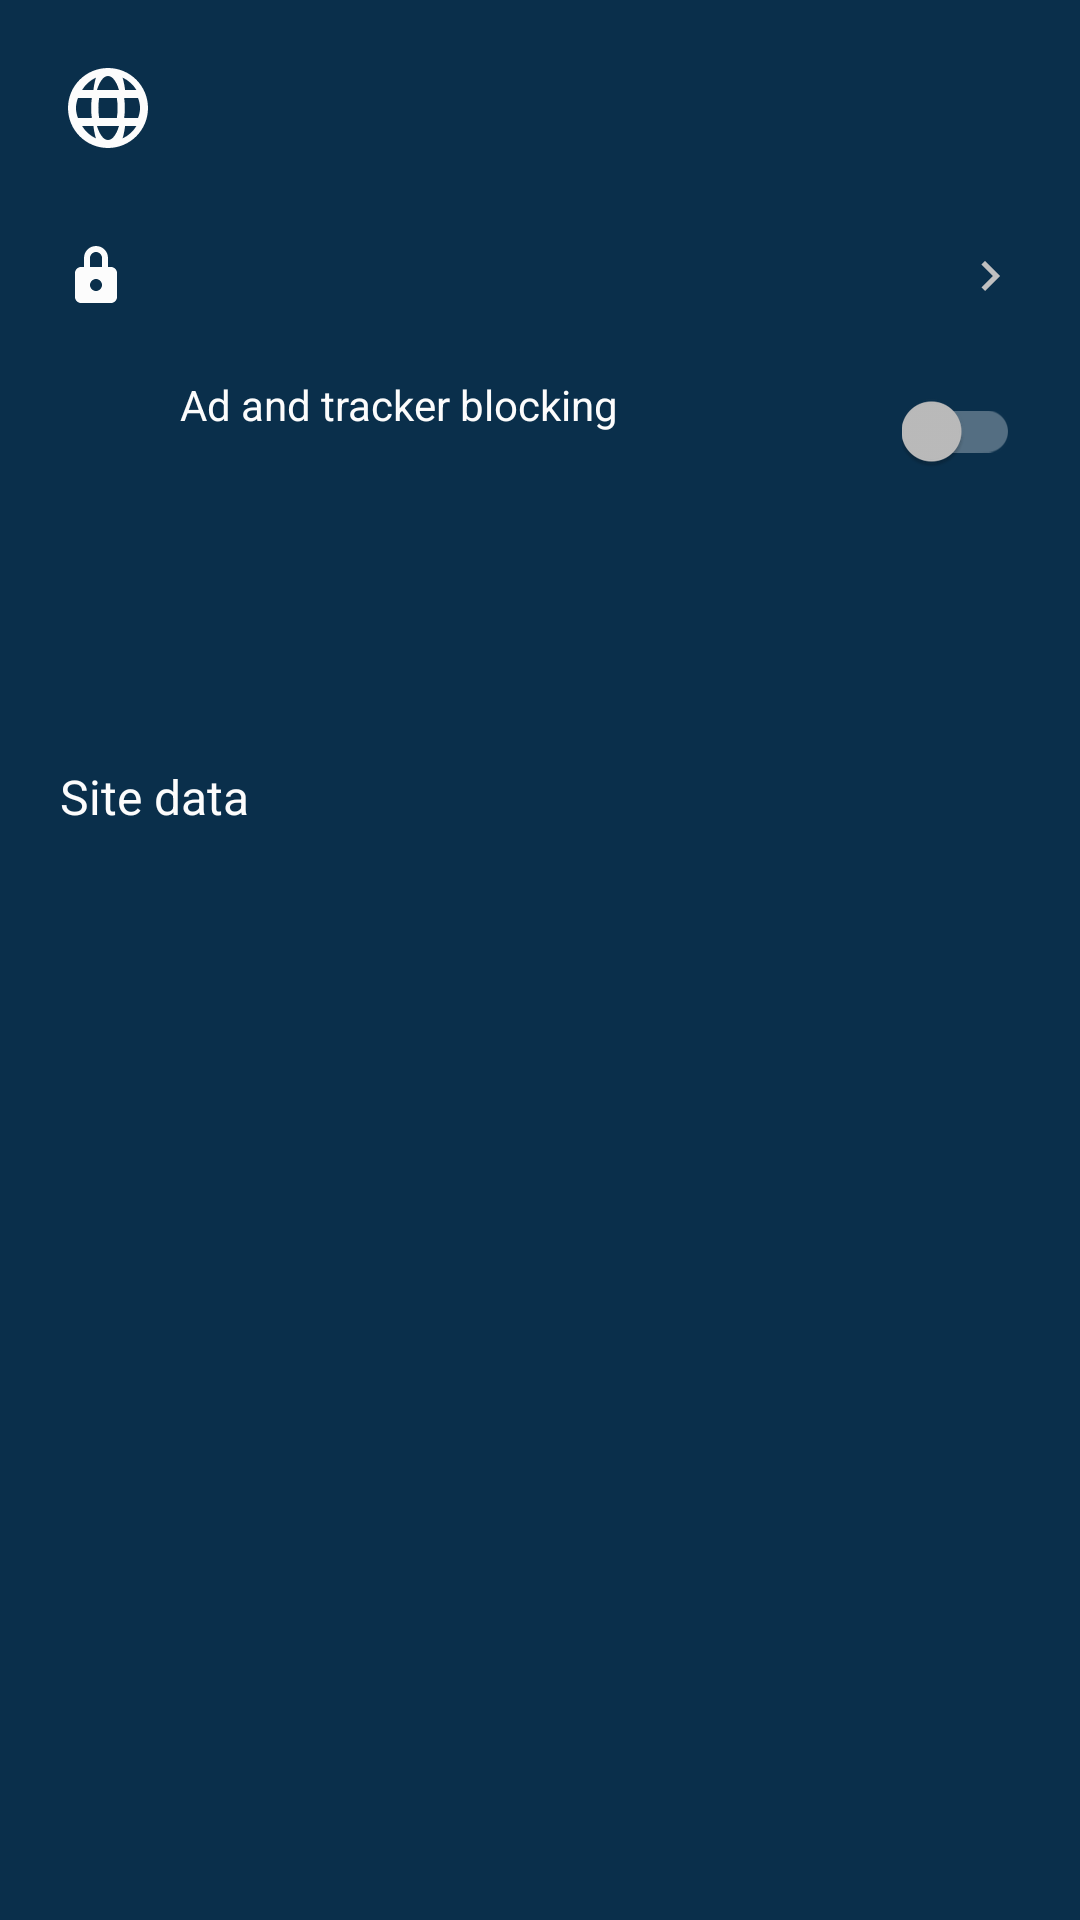

Screen size 1080 x 1920. Icon name, then its box in pixels as box=[x1, y1, x2, y2]:
mozac chevron right: box=[981, 261, 1000, 291]
mozac globe: box=[68, 68, 148, 148]
mozac lock: box=[75, 246, 117, 303]
